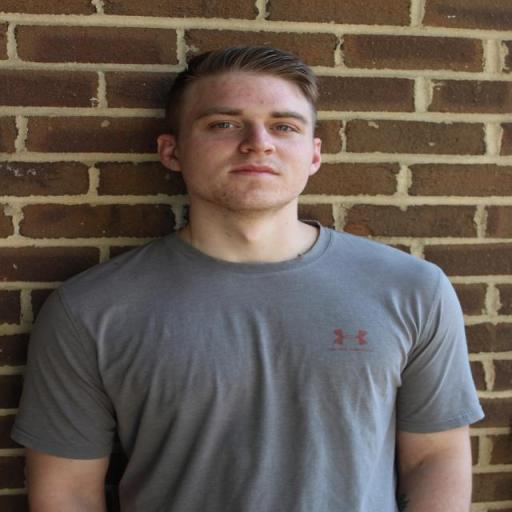Under Armour: (326, 326, 376, 353)
